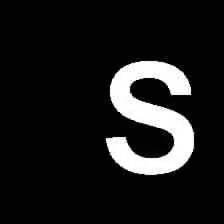LTR_S: (101, 53, 199, 184)
